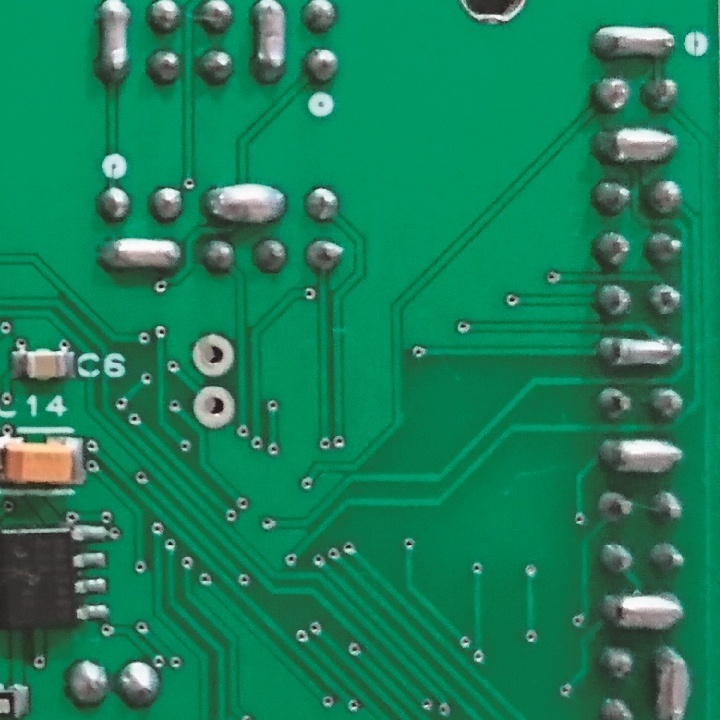F: (190, 330, 237, 382), (192, 383, 239, 433)
P: (593, 431, 689, 482), (199, 180, 290, 231), (587, 122, 685, 169), (598, 587, 692, 634), (593, 328, 688, 372), (589, 20, 681, 65), (96, 235, 188, 276), (92, 1, 135, 88), (249, 1, 290, 91), (651, 643, 696, 720)
